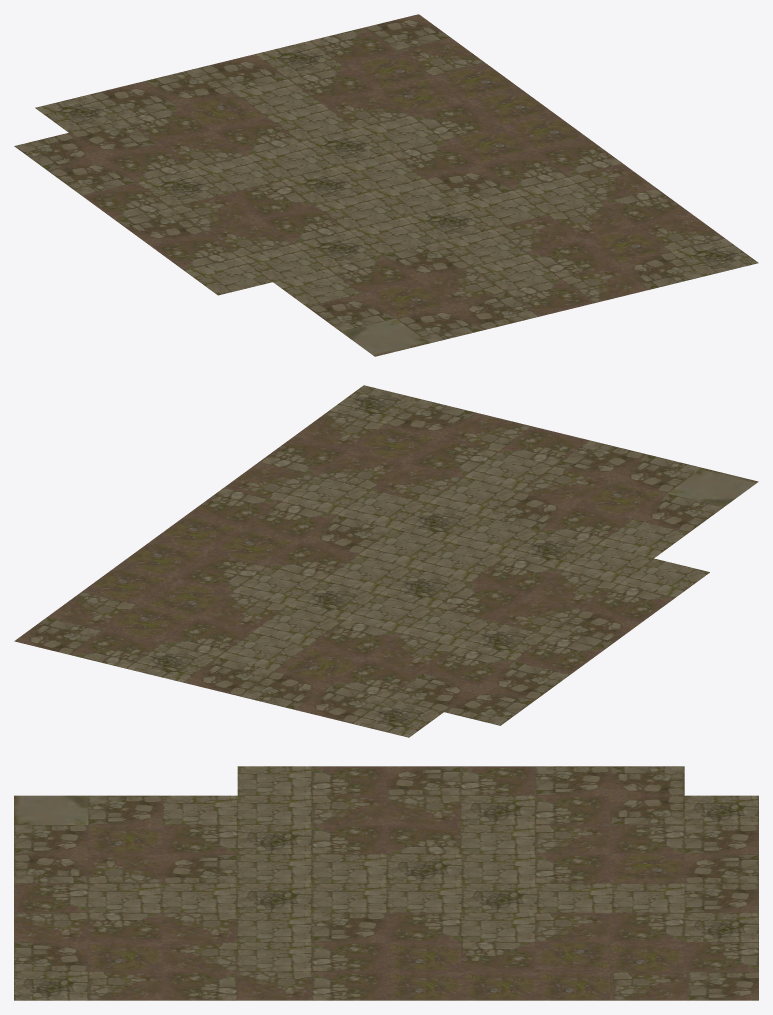
The model's file is yw_wuyishan_terrain001_55_22_6417out.fbx.
The picture shows the model from 3 angles, top to bottom: view 1: azimuth 30°, elevation 25°; view 2: azimuth 150°, elevation 25°; view 3: azimuth 270°, elevation 25°; orthographic projection. The views are drawn at different scales.
Parts seen in each view (by area): view 1: 0002_yw_wuyishan_terrain001, 0000_yw_wuyishan_terrain001, 0001_yw_wuyishan_terrain001, 0003_yw_wuyishan_terrain001, 0005_yw_wuyishan_terrain001, 0004_yw_wuyishan_terrain001; view 2: 0002_yw_wuyishan_terrain001, 0000_yw_wuyishan_terrain001, 0001_yw_wuyishan_terrain001, 0003_yw_wuyishan_terrain001, 0005_yw_wuyishan_terrain001, 0004_yw_wuyishan_terrain001; view 3: 0002_yw_wuyishan_terrain001, 0000_yw_wuyishan_terrain001, 0001_yw_wuyishan_terrain001, 0003_yw_wuyishan_terrain001, 0005_yw_wuyishan_terrain001, 0004_yw_wuyishan_terrain001.
Boxes of the visible parts, x1,y1,x2,y2 form: 0002_yw_wuyishan_terrain001: (82,27,690,316); 0000_yw_wuyishan_terrain001: (184,79,601,356); 0001_yw_wuyishan_terrain001: (14,14,703,343); 0003_yw_wuyishan_terrain001: (158,39,724,304); 0005_yw_wuyishan_terrain001: (179,52,669,318); 0004_yw_wuyishan_terrain001: (35,41,758,276); 0002_yw_wuyishan_terrain001: (71,426,674,698); 0000_yw_wuyishan_terrain001: (219,452,758,670); 0001_yw_wuyishan_terrain001: (14,399,723,725); 0003_yw_wuyishan_terrain001: (49,411,618,672); 0005_yw_wuyishan_terrain001: (84,424,667,684); 0004_yw_wuyishan_terrain001: (127,385,596,737); 0002_yw_wuyishan_terrain001: (14,766,758,1000); 0000_yw_wuyishan_terrain001: (14,766,684,971); 0001_yw_wuyishan_terrain001: (14,766,758,1000); 0003_yw_wuyishan_terrain001: (14,795,684,1000); 0005_yw_wuyishan_terrain001: (88,825,684,1000); 0004_yw_wuyishan_terrain001: (14,795,758,1000).
Size of the model in its own units: 25.03 by 1.47e-06 by 33.6.
